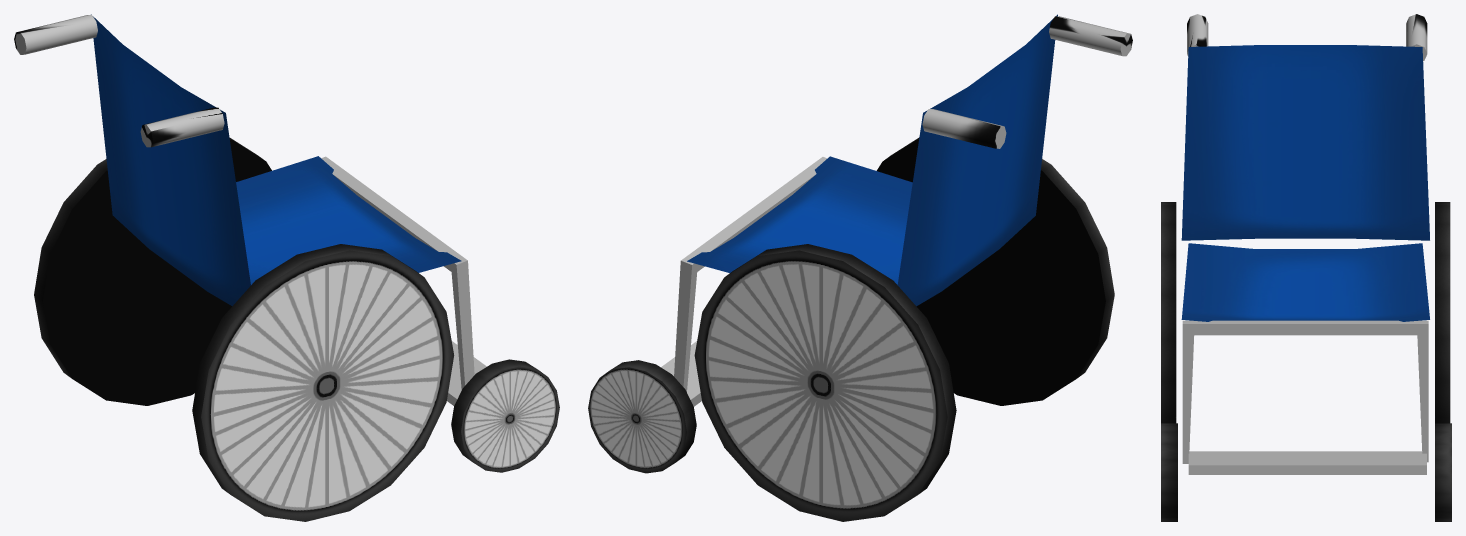
The model's file is silla de ruedas.FBX.
3 views of the same model, side by side, from view 1: azimuth 30°, elevation 25°; view 2: azimuth 150°, elevation 25°; view 3: azimuth 270°, elevation 25° (orthographic). The views are drawn at different scales.
Parts seen in each view (by area): view 1: Cylinder004, Cylinder001, Plane016, Plane015, Cylinder003, Line003, Cylinder005, Cylinder006, Box001; view 2: Cylinder001, Cylinder004, Plane016, Plane015, Cylinder002, Line003, Cylinder005, Cylinder006, Box001; view 3: Plane016, Plane015, Line003, Box001, Cylinder001, Cylinder004, Cylinder002, Cylinder003, Cylinder006, Cylinder005.
Part boxes in pixels (x1,y1,x2,y2): Cylinder004: [192, 244, 454, 521]; Cylinder001: [34, 138, 271, 405]; Plane016: [91, 14, 250, 306]; Plane015: [236, 156, 461, 284]; Cylinder003: [451, 359, 559, 472]; Line003: [321, 156, 474, 389]; Cylinder005: [140, 107, 224, 147]; Cylinder006: [14, 15, 97, 54]; Box001: [447, 341, 486, 405]; Cylinder001: [694, 244, 956, 521]; Cylinder004: [876, 137, 1114, 405]; Plane016: [897, 14, 1057, 306]; Plane015: [687, 156, 912, 284]; Cylinder002: [588, 360, 696, 473]; Line003: [674, 157, 827, 391]; Cylinder005: [1049, 16, 1132, 56]; Cylinder006: [922, 109, 1006, 148]; Box001: [661, 341, 701, 406]; Plane016: [1181, 45, 1429, 240]; Plane015: [1181, 243, 1429, 321]; Line003: [1182, 320, 1428, 463]; Box001: [1188, 451, 1426, 474]; Cylinder001: [1435, 202, 1450, 423]; Cylinder004: [1161, 202, 1176, 423]; Cylinder002: [1435, 423, 1451, 521]; Cylinder003: [1161, 423, 1177, 521]; Cylinder006: [1406, 14, 1427, 61]; Cylinder005: [1187, 14, 1208, 56].
Size of the model in its own units: 21.88 by 22.14 by 16.25.
